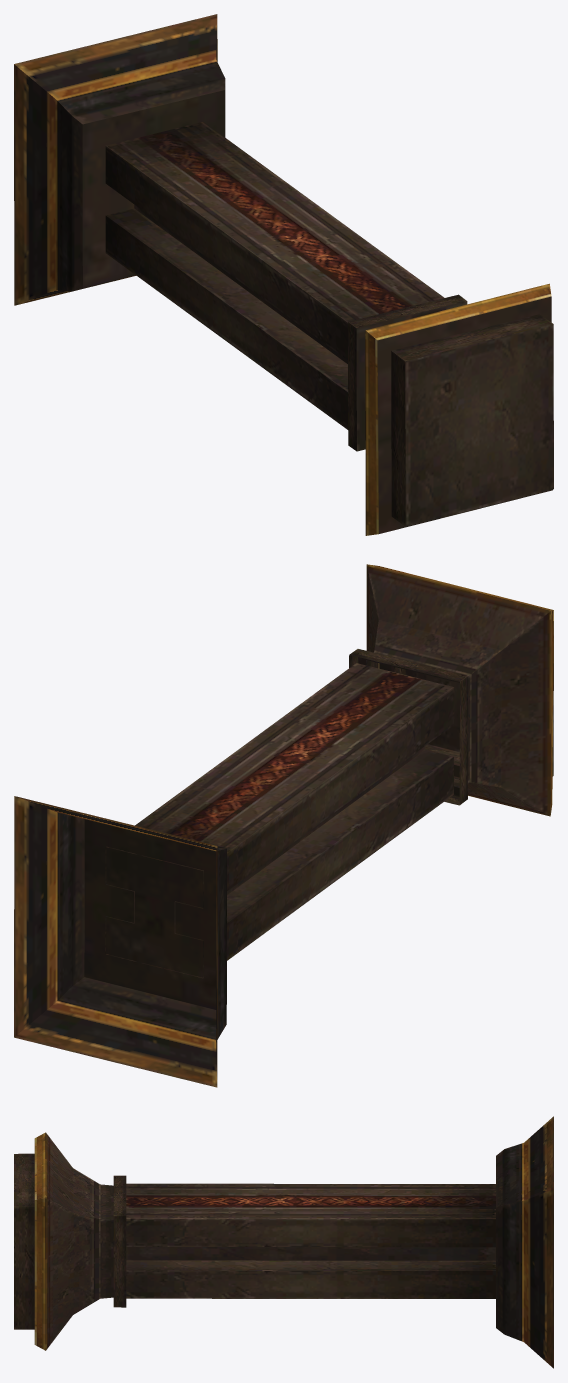
File: juqing_fuben_292_langzhu_01_a_02.obj
The picture shows the model from 3 angles, top to bottom: view 1: azimuth 30°, elevation 25°; view 2: azimuth 150°, elevation 25°; view 3: azimuth 270°, elevation 25°; orthographic projection. The views are drawn at different scales.
Parts seen in each view (by area): view 1: Object02; view 2: Object02; view 3: Object02.
Part boxes in pixels (<box>): Object02: <box>14,14,553,535</box>; Object02: <box>14,564,553,1087</box>; Object02: <box>14,1116,553,1368</box>.
Size of the model in its own units: 67.27 by 76.42 by 208.
Materials: 1 (1 with a texture image).
